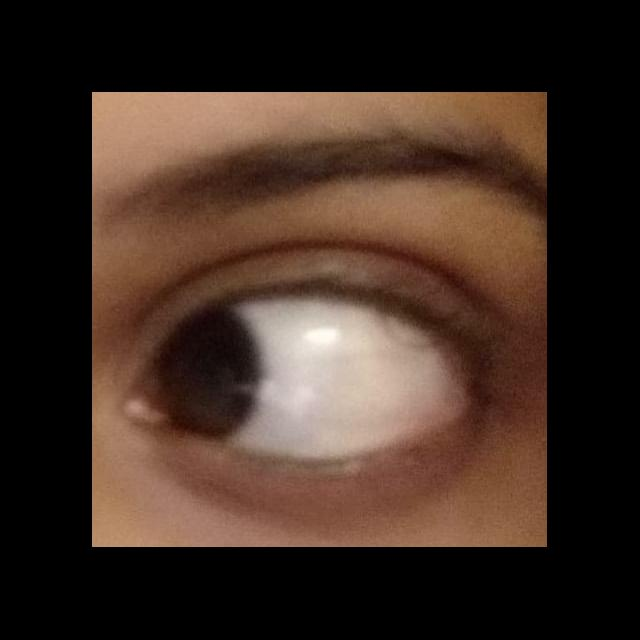eye: (152, 294, 471, 459)
iris: (153, 303, 262, 439)
